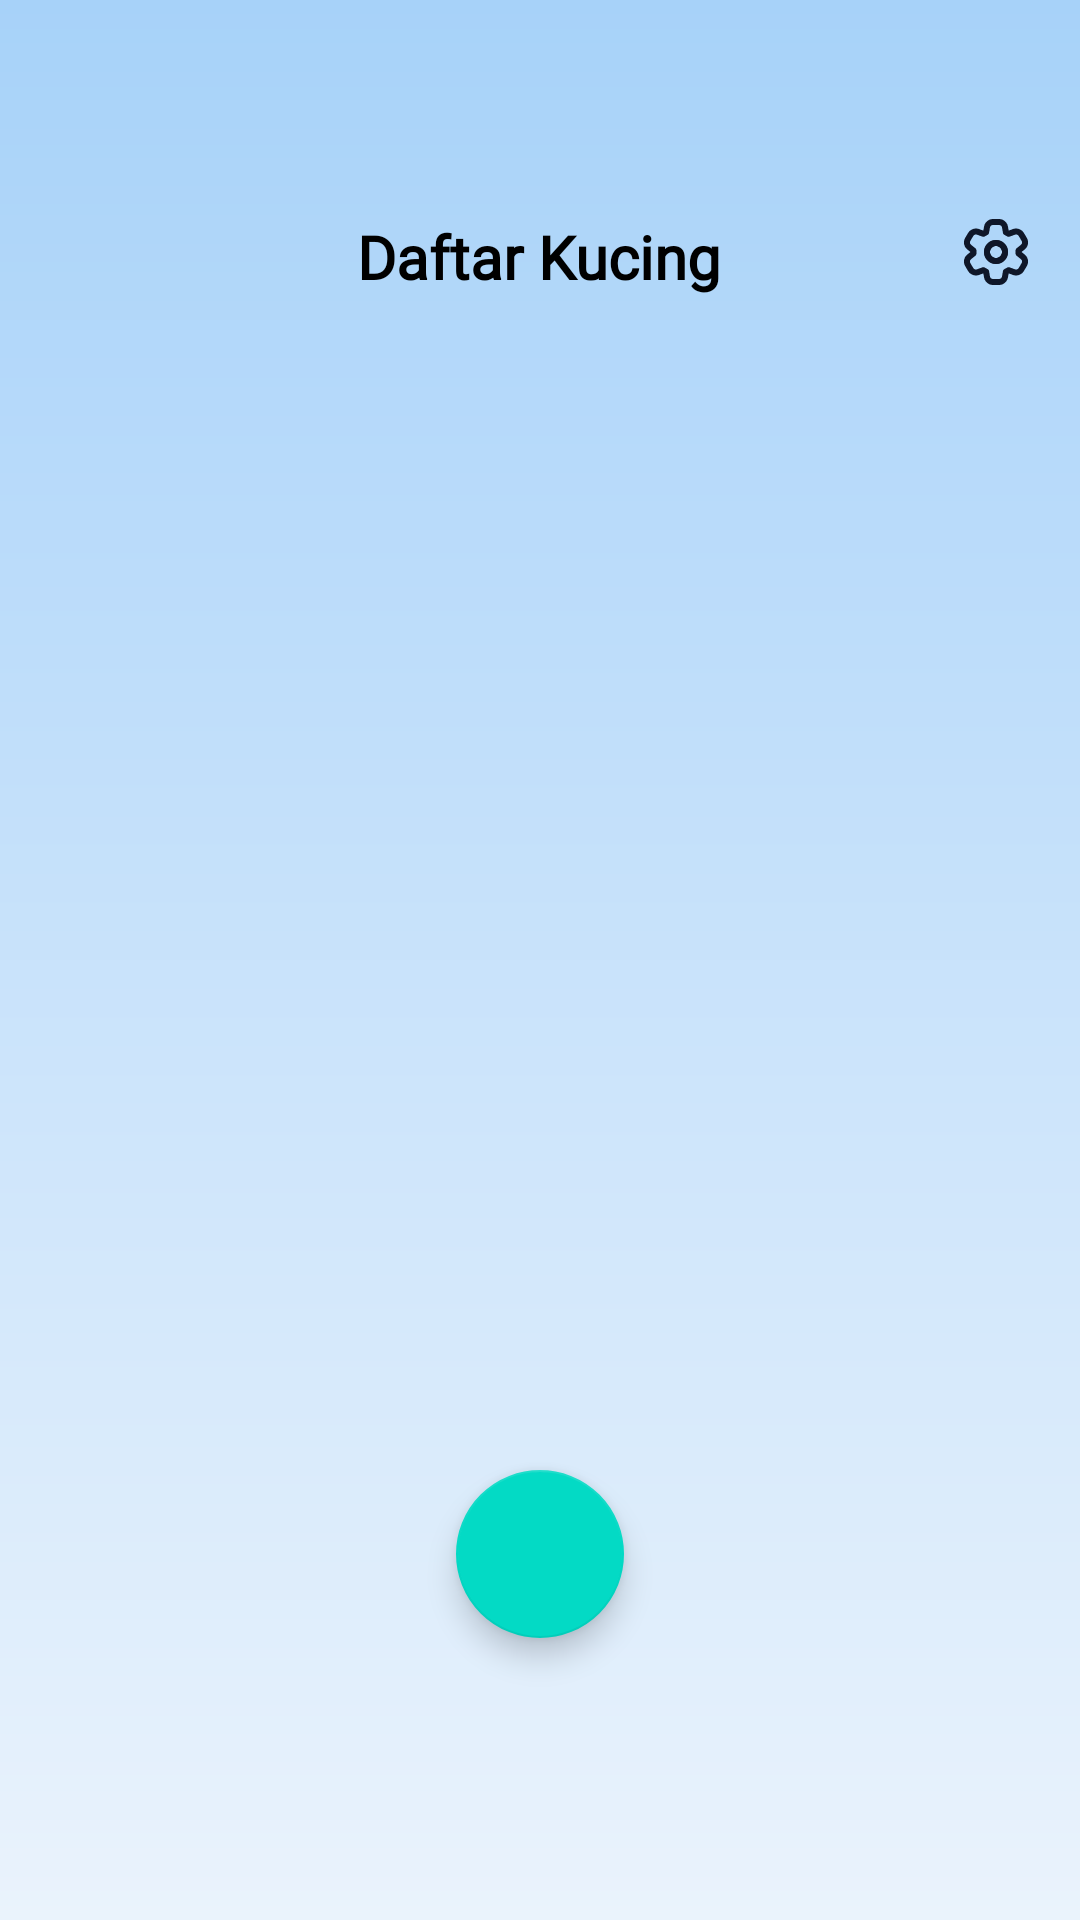

Screen size 1080px x 1920px. Icon name, then its center in pixels as [x,y]:
Pengaturan: [996,252]
